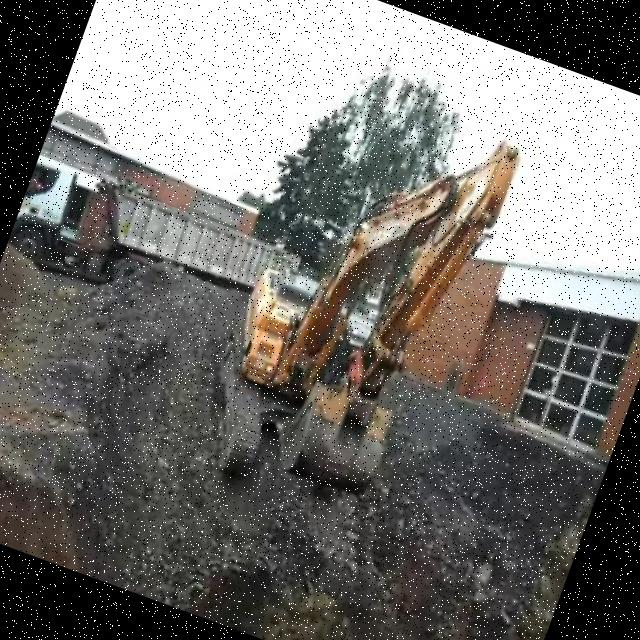Dump Truck: (5, 152, 302, 346)
Excavator: (179, 70, 526, 534)
